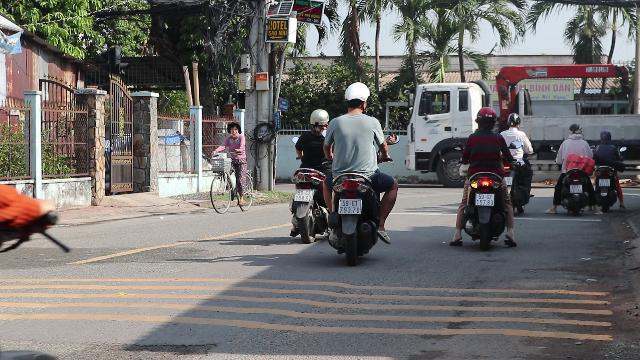helmet: (342, 80, 370, 112), (474, 106, 498, 130), (308, 108, 328, 130)
licenseplate: (338, 198, 362, 214), (294, 190, 314, 202), (476, 194, 494, 207)
motorcyclist: (321, 81, 399, 264), (450, 106, 518, 250), (285, 108, 329, 243)
